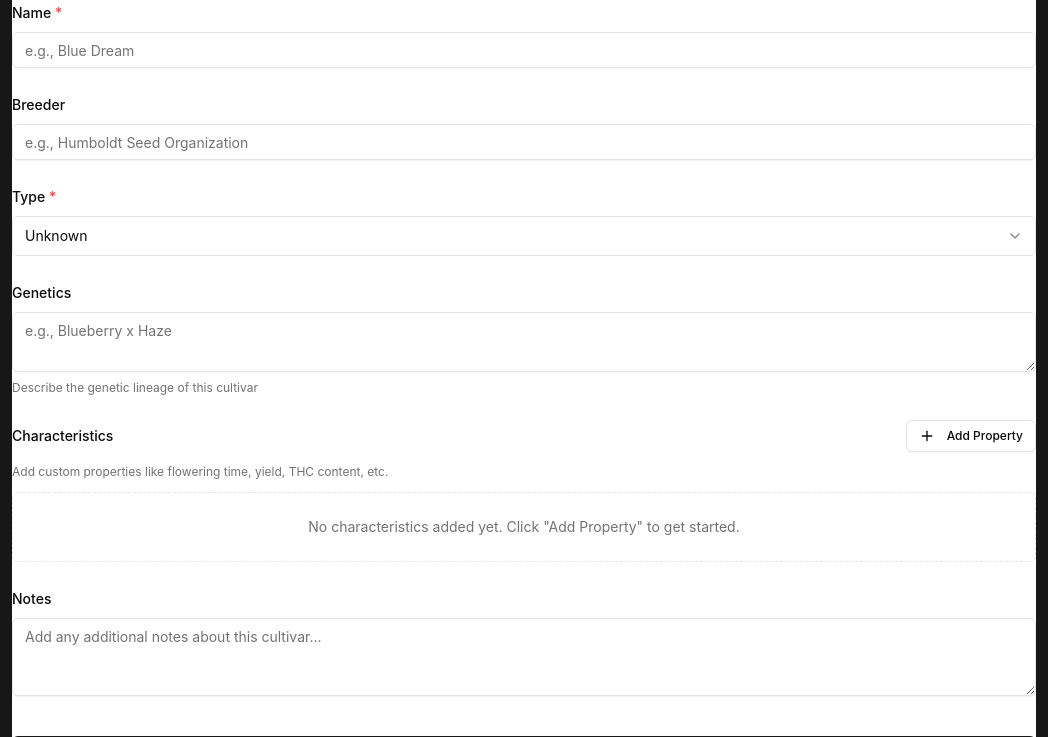
Test: CultivarForm › renders type dropdown with all options
Click the dropdown named "type" at (56, 236), box x1=12 y1=216 x2=1036 y2=256
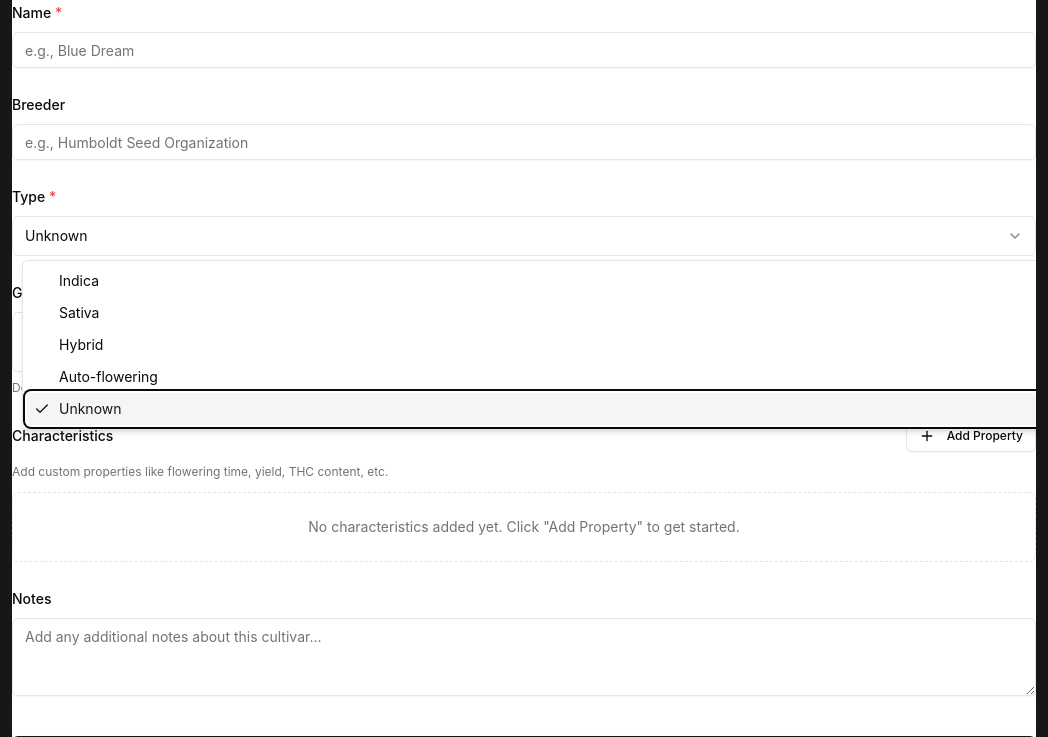
Now the option "Indica" is shown, box x1=59 y1=272 x2=99 y2=289
Now the option "Sativa" is shown, box x1=59 y1=304 x2=100 y2=321
Now the option "Hybrid" is shown, box x1=59 y1=336 x2=103 y2=353
